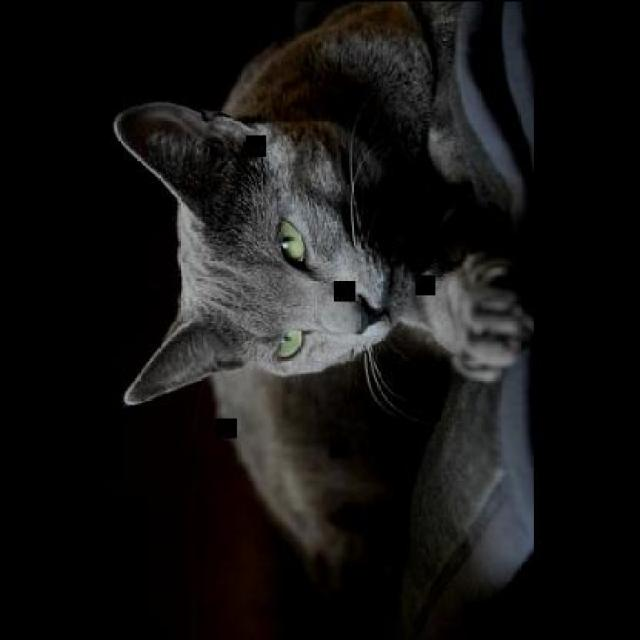unauthorized: (112, 0, 537, 594)
